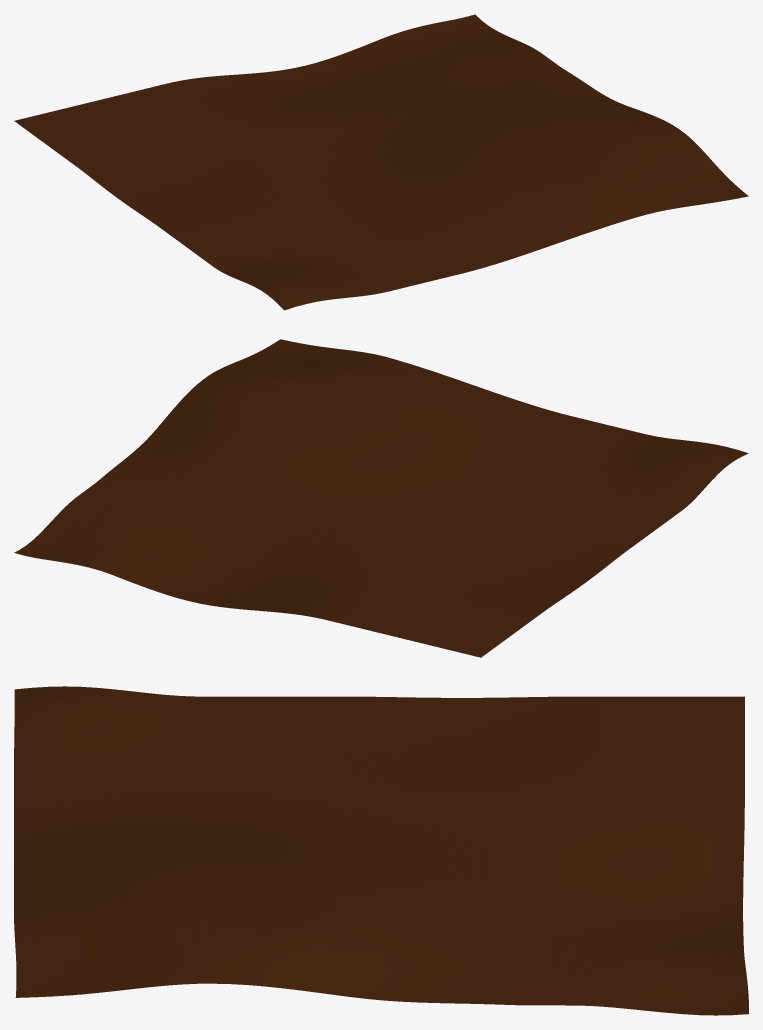
The model's file is Dungeon floor.fbx.
3 views of the same model, one above another, from view 1: azimuth 30°, elevation 25°; view 2: azimuth 150°, elevation 25°; view 3: azimuth 270°, elevation 25° (orthographic). The views are drawn at different scales.
Parts seen in each view (by area): view 1: Plane; view 2: Plane; view 3: Plane.
Boxes of the visible parts, x1=… form: Plane: x1=14, y1=14, x2=748, y2=310; Plane: x1=14, y1=339, x2=748, y2=657; Plane: x1=14, y1=686, x2=748, y2=1015.
Bounding box in the file's own units: 203 × 16.9 × 201.
